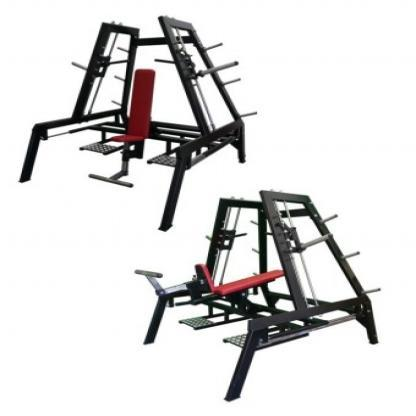Chest Press machine: (127, 180, 407, 394), (14, 3, 253, 232)
